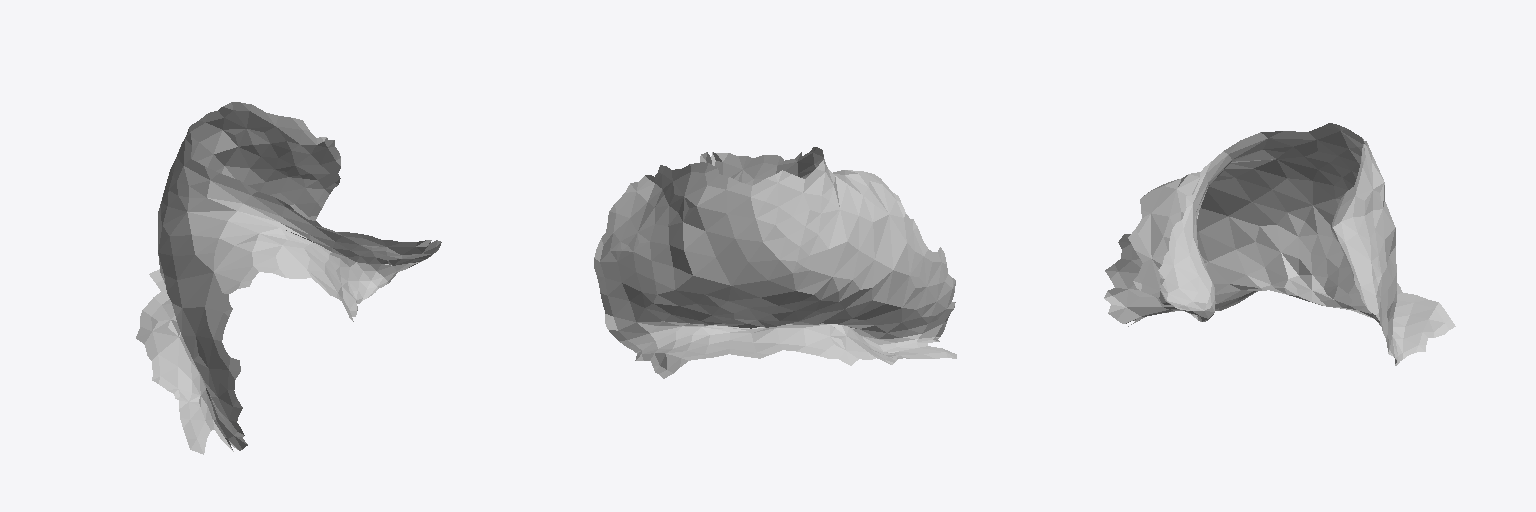
Rendered from R_lateral_orbital_sulcus.obj.
3 renders of one model, left to right at view 1: azimuth 30°, elevation 25°; view 2: azimuth 150°, elevation 25°; view 3: azimuth 270°, elevation 25°, orthographic.
Parts seen in each view (by area): view 1: R_lateral_orbital_sulcus_L_lateral_orbital_sulcus; view 2: R_lateral_orbital_sulcus_L_lateral_orbital_sulcus; view 3: R_lateral_orbital_sulcus_L_lateral_orbital_sulcus.
Boxes of the visible parts, x1,y1,x2,y2 form: R_lateral_orbital_sulcus_L_lateral_orbital_sulcus: [136, 102, 441, 454]; R_lateral_orbital_sulcus_L_lateral_orbital_sulcus: [594, 147, 956, 378]; R_lateral_orbital_sulcus_L_lateral_orbital_sulcus: [1104, 123, 1455, 365].
Size of the model in its own units: 48.79 by 43.6 by 58.35.